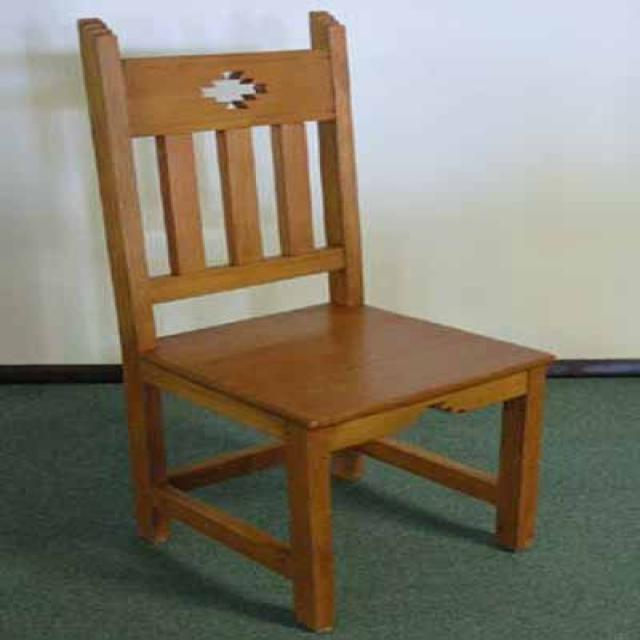chair: (75, 9, 555, 633)
